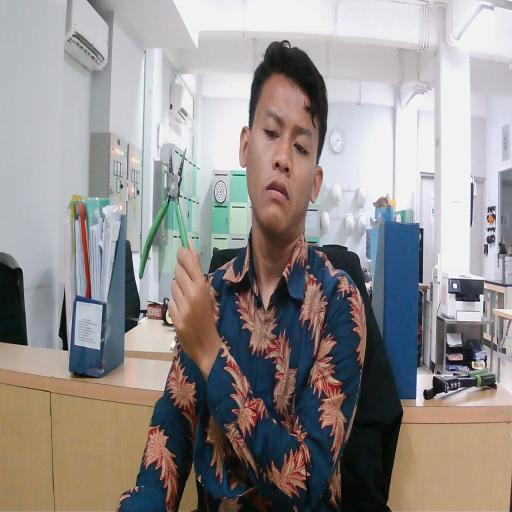tang_scun_hidrolik: (135, 134, 204, 296)
